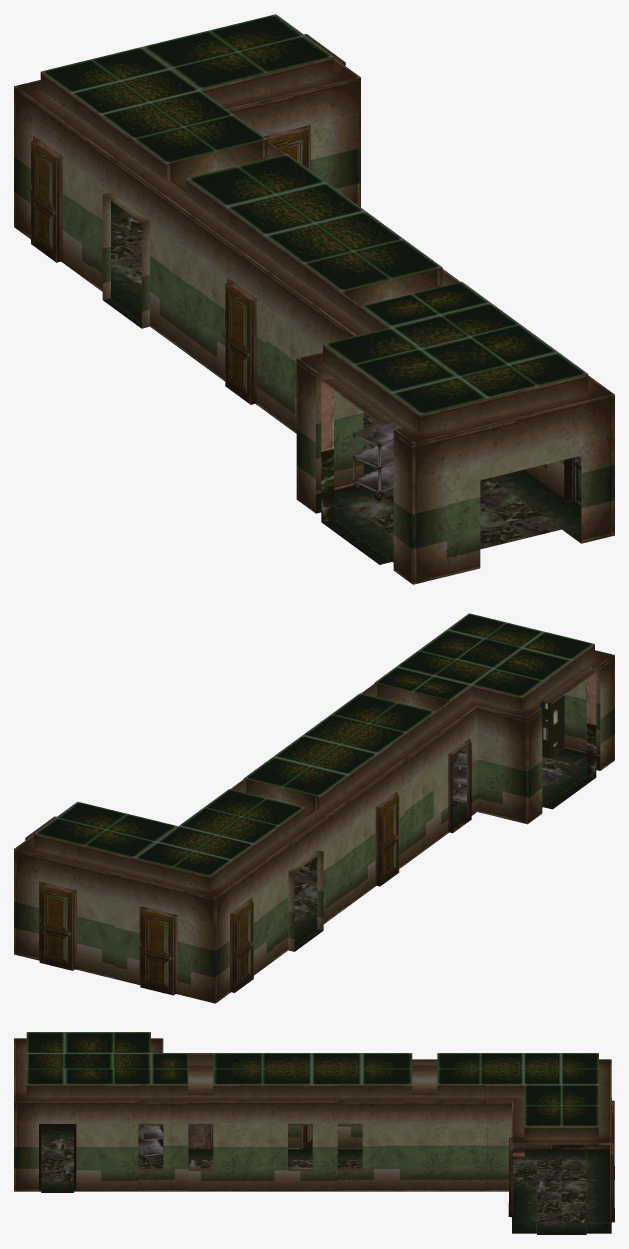
File: hallway_game_ready.glb
3 views of the same model, one above another, from view 1: azimuth 30°, elevation 25°; view 2: azimuth 150°, elevation 25°; view 3: azimuth 270°, elevation 25° (orthographic). The views are drawn at different scales.
Parts seen in each view (by area): view 1: FrontSide_0, FrontSide_1; view 2: FrontSide_0, FrontSide_1; view 3: FrontSide_0, FrontSide_1.
Boxes of the visible parts, box(x1,y1,x2,y2) form: FrontSide_0: box(14, 14, 614, 584); FrontSide_1: box(321, 62, 581, 522); FrontSide_0: box(14, 613, 614, 1003); FrontSide_1: box(25, 672, 596, 840); FrontSide_0: box(14, 1032, 614, 1234); FrontSide_1: box(14, 1101, 210, 1147).
Size of what is drawn, in the model's own units: 8.2 by 3.61 by 19.31.
Materials: 2 (2 with a texture image).
